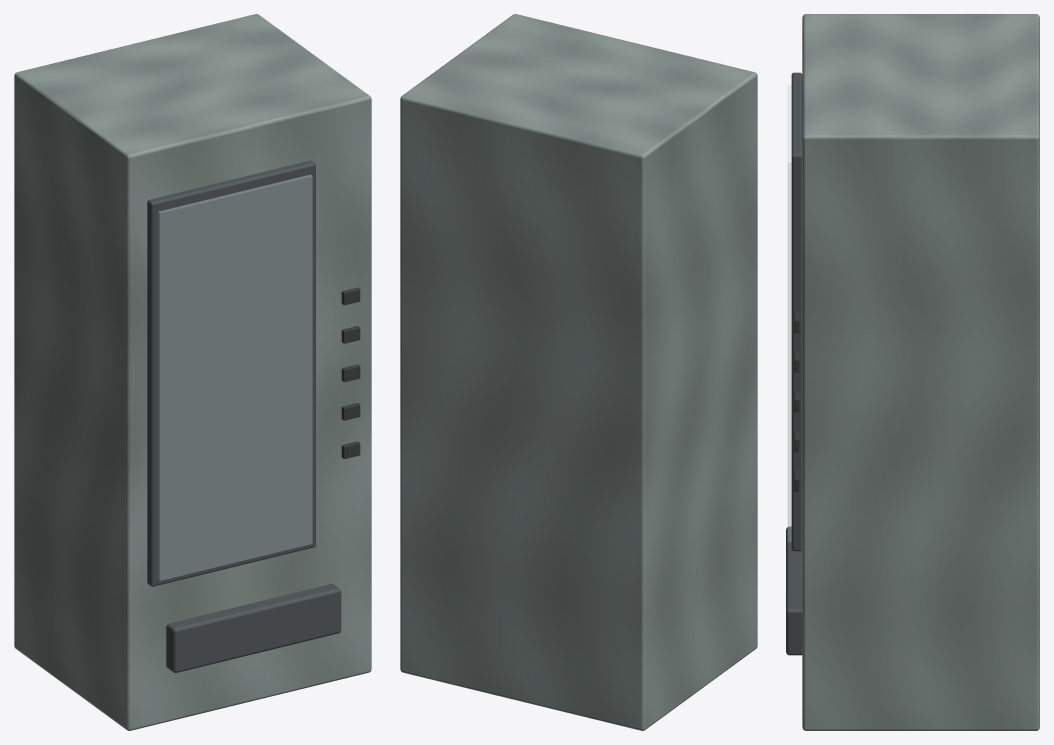
File: liminal-spaces-kit-dark-vending-machine-3fc7e8f5__25289.glb
3 views of the same model, side by side, from view 1: azimuth 30°, elevation 25°; view 2: azimuth 150°, elevation 25°; view 3: azimuth 270°, elevation 25° (orthographic). The views are drawn at different scales.
Parts seen in each view (by area): view 1: dark-vending-machine; view 2: dark-vending-machine; view 3: dark-vending-machine.
Part boxes in pixels (x1,y1,x2,y2): dark-vending-machine: [14, 14, 371, 730]; dark-vending-machine: [400, 14, 757, 730]; dark-vending-machine: [786, 14, 1039, 730].
Size of the model in its own units: 0.7999 by 1.8 by 0.695.
Materials: 5 (1 with a texture image).
